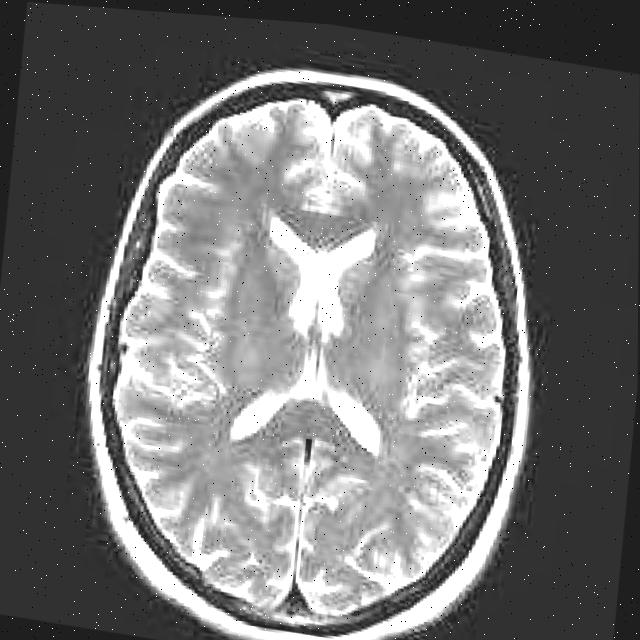NoTumor: (61, 30, 567, 640)
